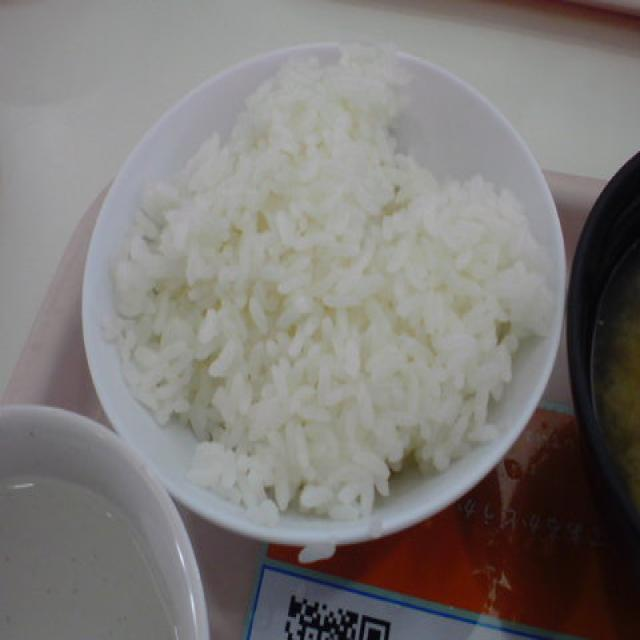Rice: (115, 58, 538, 499)
